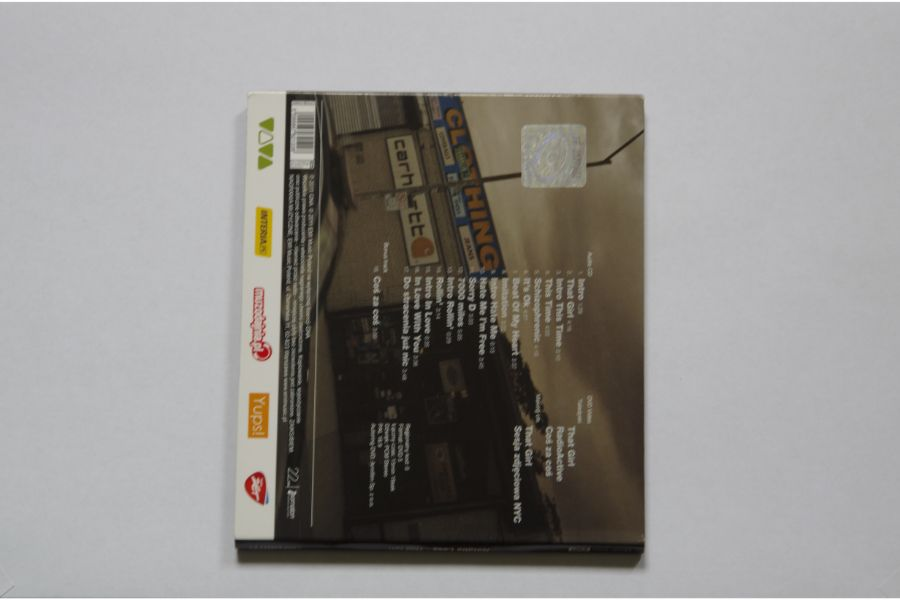album: (231, 85, 648, 555)
